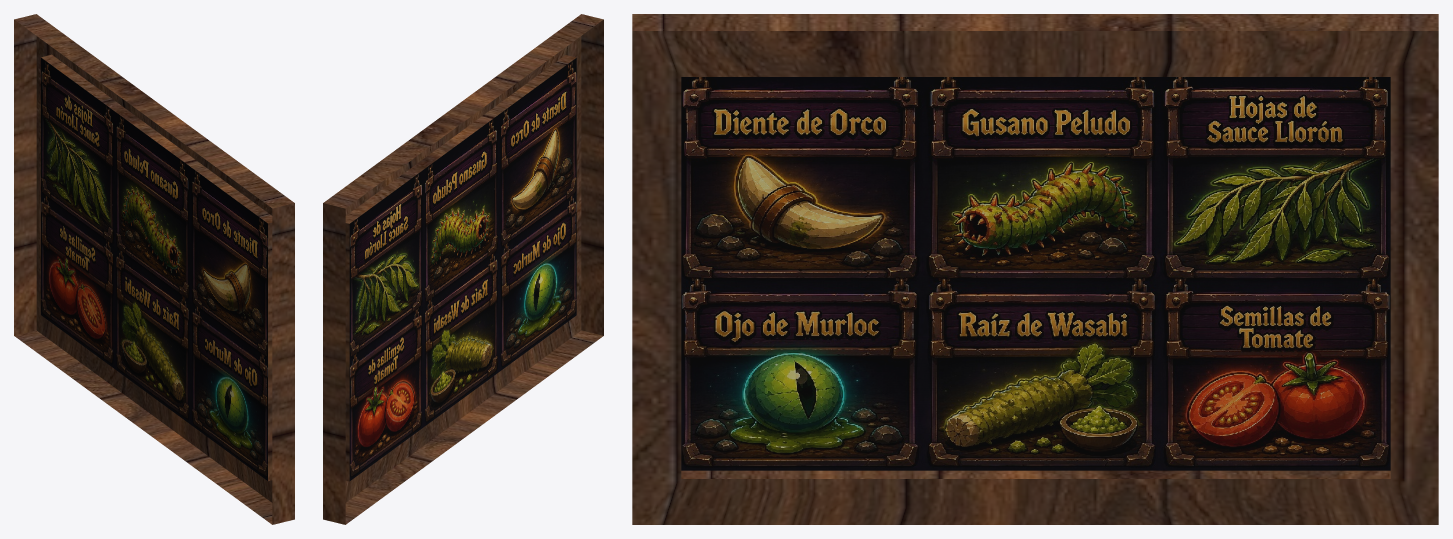
Rendered from Ingredientes.fbx.
The picture shows the model from 3 angles, left to right: view 1: azimuth 30°, elevation 25°; view 2: azimuth 150°, elevation 25°; view 3: azimuth 270°, elevation 25°; orthographic projection. The views are drawn at different scales.
Visible parts, largest first — view 1: Cube; view 2: Cube; view 3: Cube.
Boxes of the visible parts, x1,y1,x2,y2 form: Cube: [14, 14, 294, 524]; Cube: [323, 14, 603, 524]; Cube: [632, 14, 1438, 524].
Bounding box in the file's own units: 14.83 × 200 × 296.
Materials: 1 (1 with a texture image).
